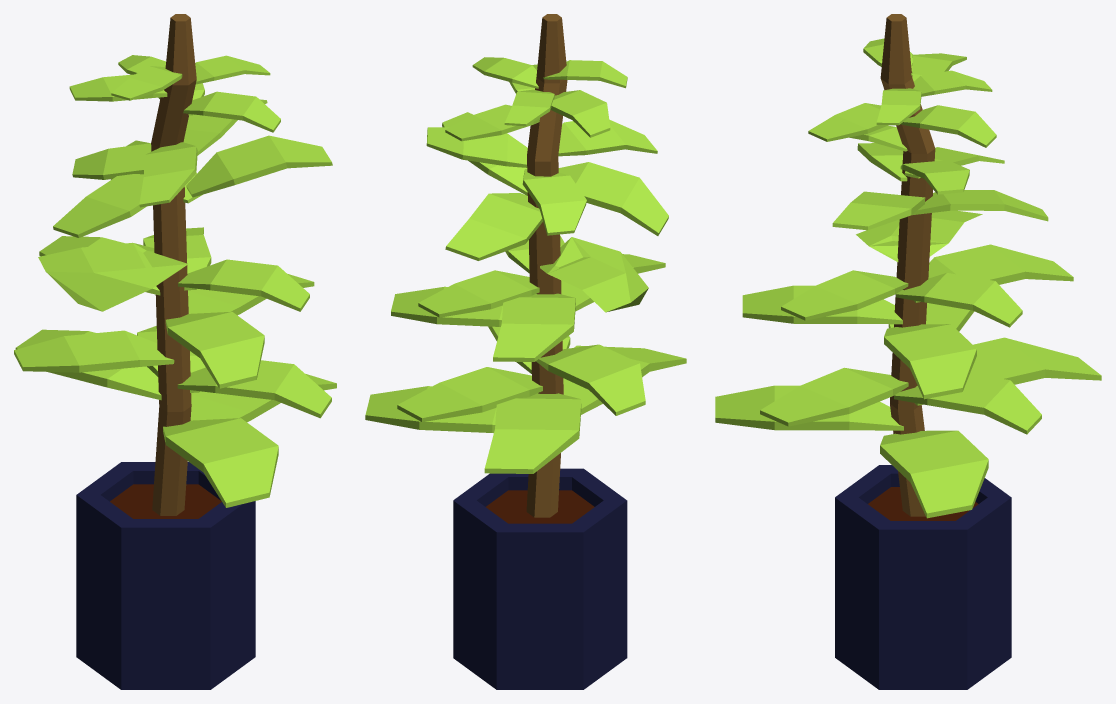
The model's file is Plant2.fbx.
3 renders of one model, left to right at view 1: azimuth 30°, elevation 25°; view 2: azimuth 150°, elevation 25°; view 3: azimuth 270°, elevation 25°, orthographic. The views are drawn at different scales.
Visible parts, largest first — view 1: Cube.021, Pot, Stem; view 2: Cube.021, Pot, Stem; view 3: Cube.021, Pot, Stem.
Part boxes in pixels (x1,y1,x2,y2): Cube.021: (14,55,336,507); Pot: (76,462,255,689); Stem: (151,14,196,515); Cube.021: (365,57,686,473); Pot: (453,468,627,689); Stem: (526,14,567,517); Cube.021: (715,38,1101,518); Pot: (835,465,1011,689); Stem: (880,14,935,516).
Bounding box in the file's own units: 75.62 × 157 × 85.91.
